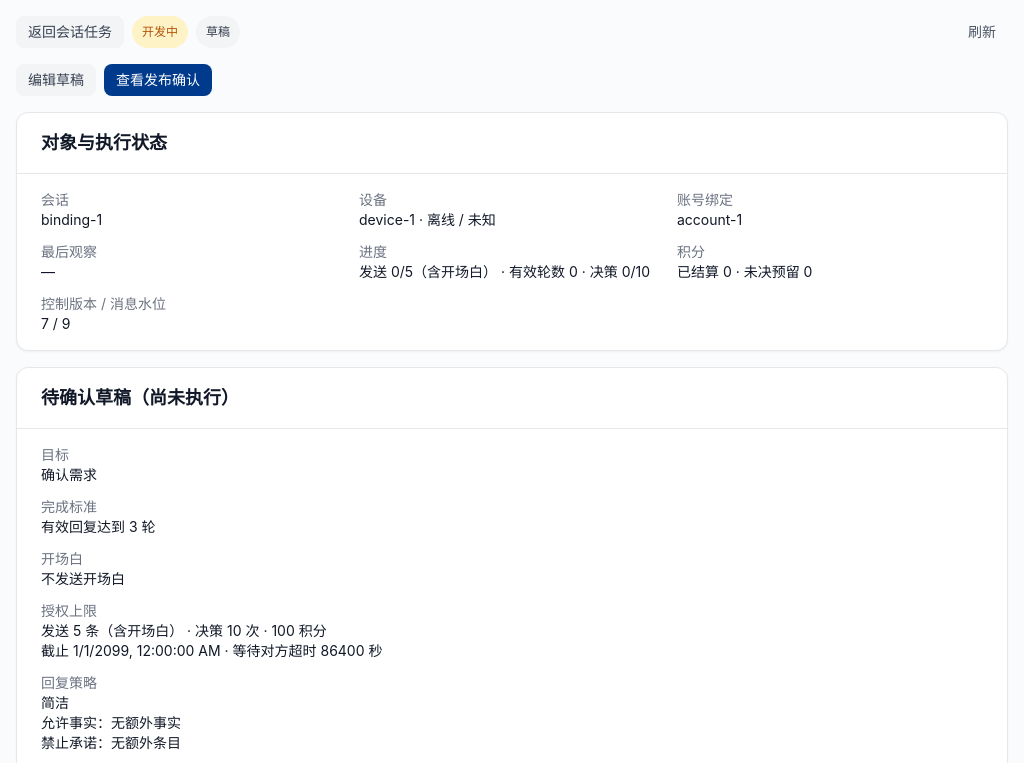
会话任务发布与控制行为 › 版本冲突不自动重新确认或发布，保留用户核对入口
Step 1. Click the button "查看发布确认" → (158, 80), box [104,64,212,96]
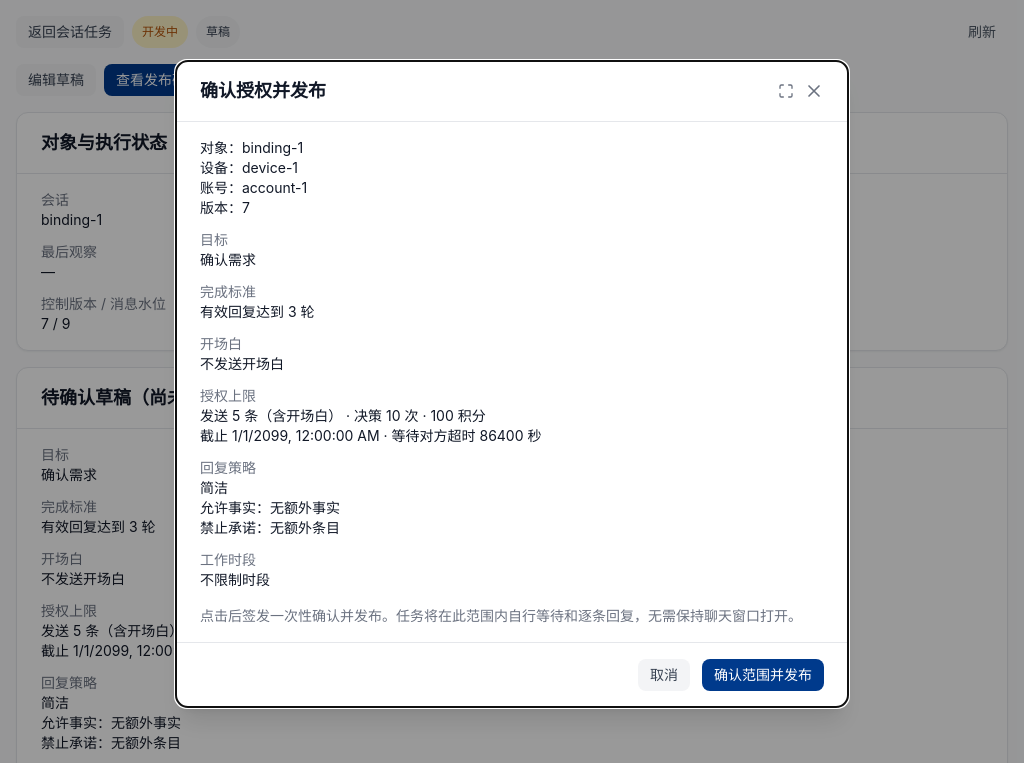
Step 2. Click the button "确认范围并发布" → (763, 675), box [702,659,824,691]
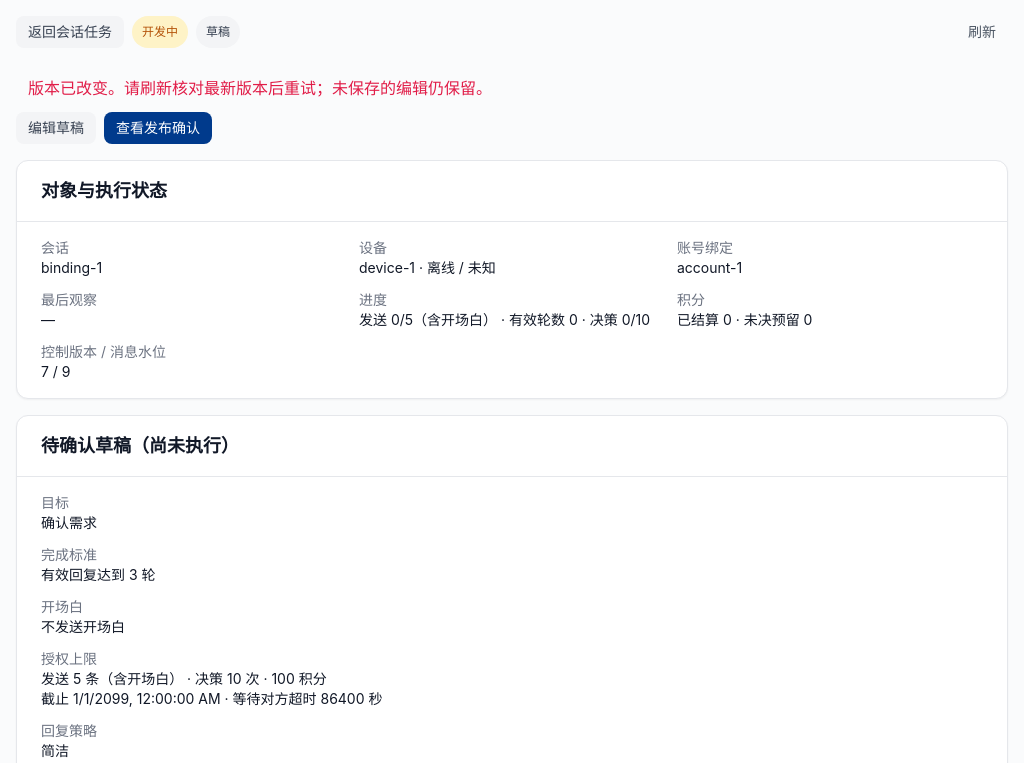
Expected: the text "刷新核对最新版本" is shown, [28,78,492,98]
